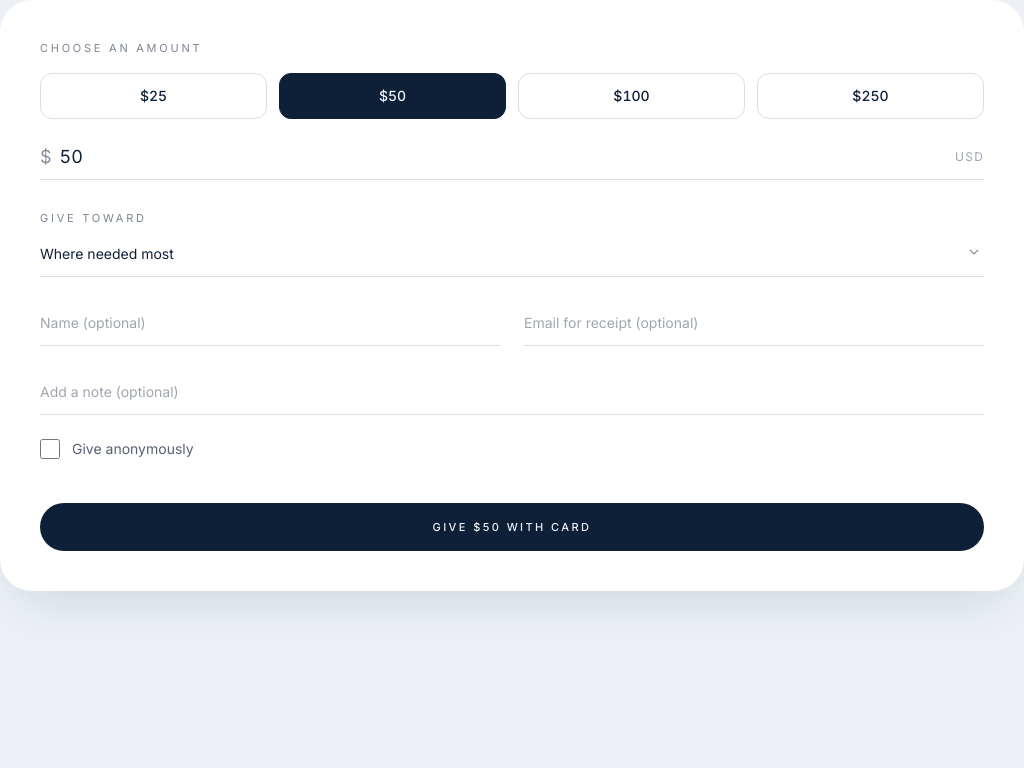
Test: DonateForm › choosing a preset sets the amount
Step 1. Clear the field named "Donation amount (USD)" → coordinates (503, 156), box x1=60 y1=142 x2=947 y2=170
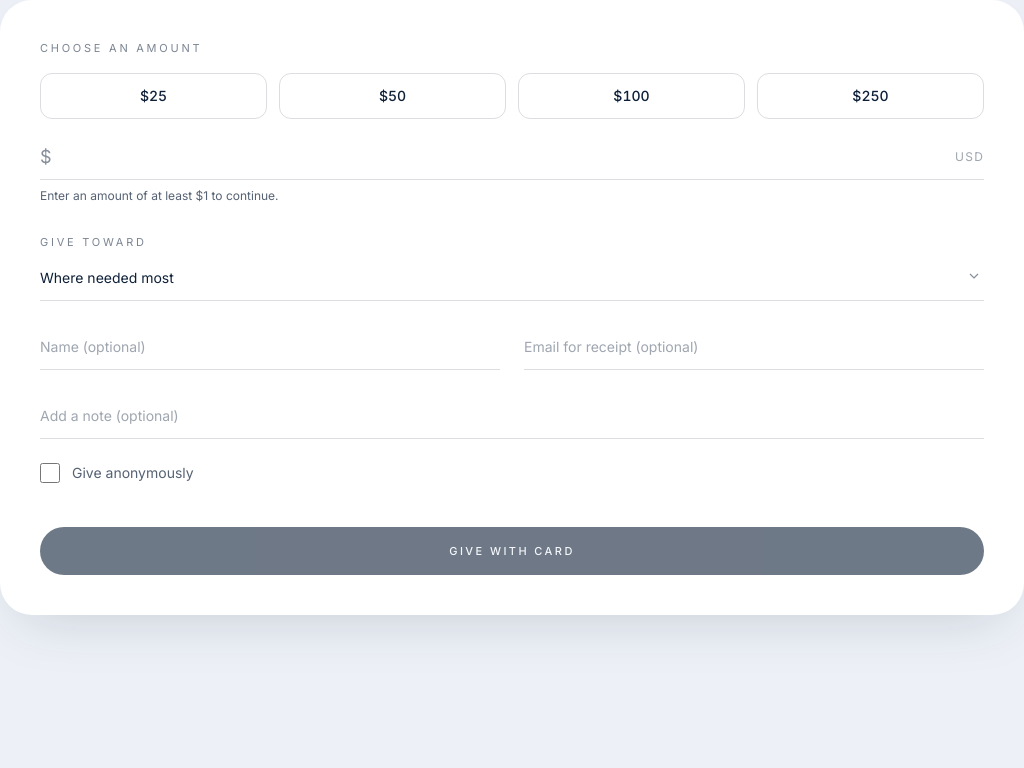
Step 2. Click the button "$250" → coordinates (870, 96), box x1=757 y1=72 x2=984 y2=118
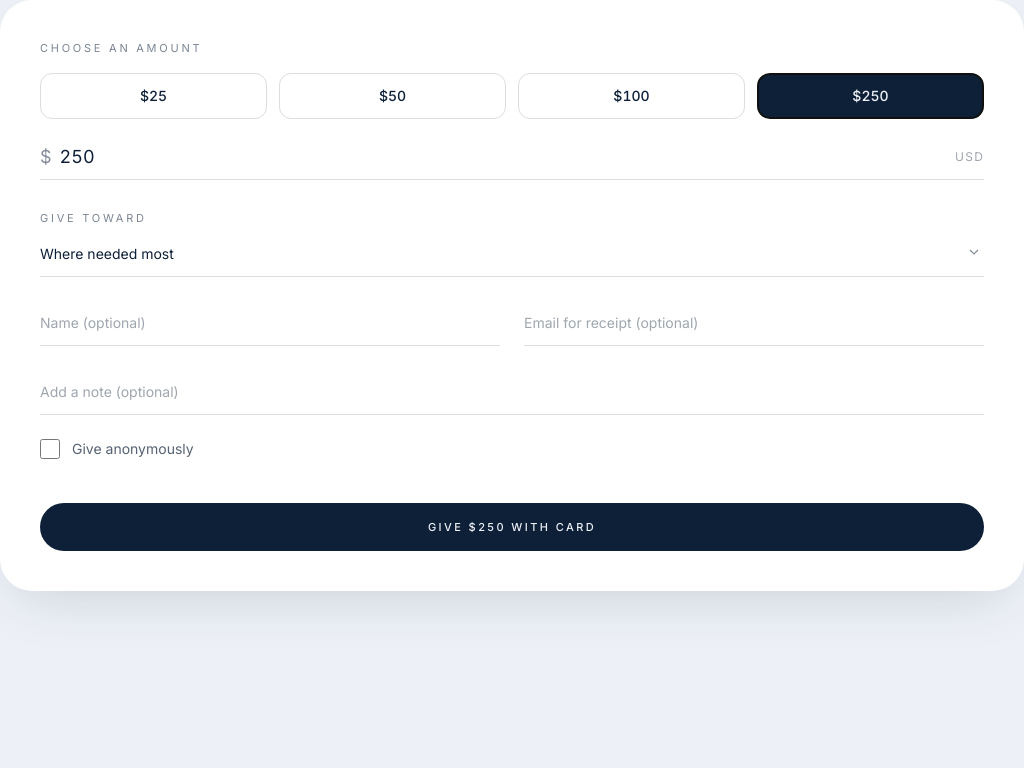
expect the field named "Donation amount (USD)" holds "250": met, box x1=60 y1=142 x2=947 y2=170
expect the text "Enter an amount of at least $1" is gone: met
